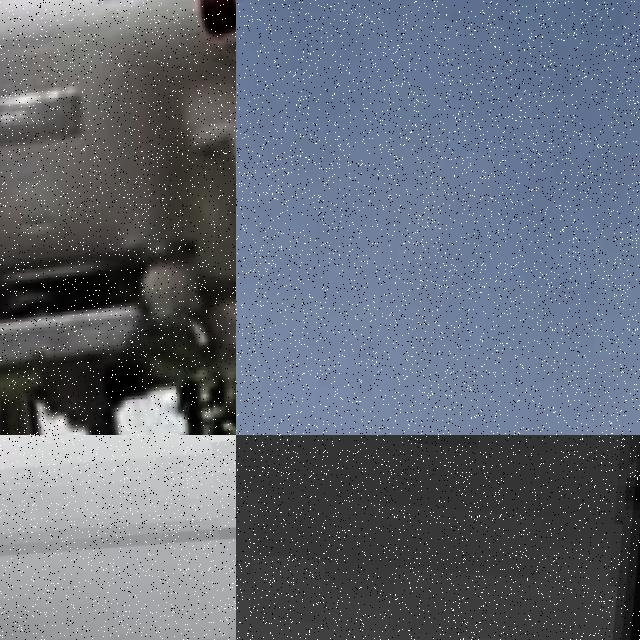0: (0, 0, 236, 435)
drone: (0, 435, 236, 640)
